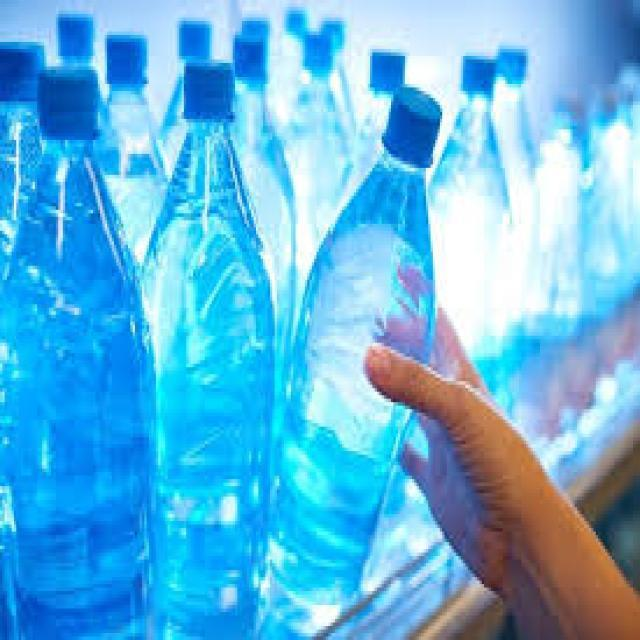bottle: (298, 73, 476, 622), (152, 59, 296, 640)
